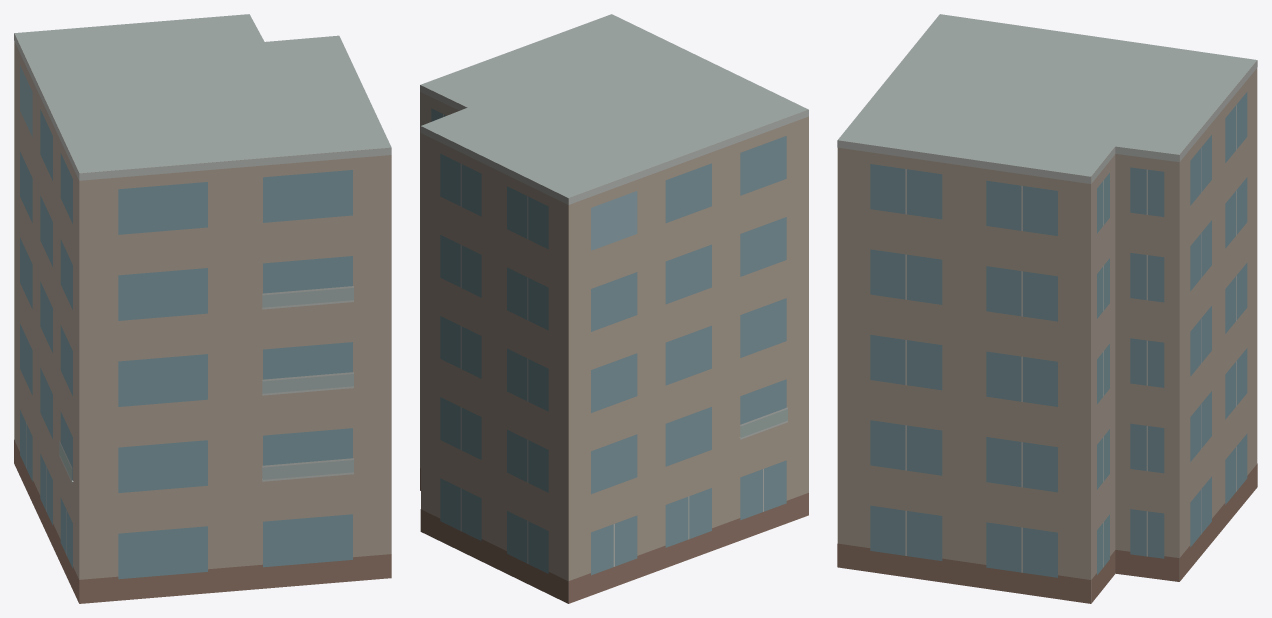
The model's file is survey-upis-32981299.glb.
3 renders of one model, left to right at view 1: azimuth 30°, elevation 25°; view 2: azimuth 150°, elevation 25°; view 3: azimuth 270°, elevation 25°, orthographic. The views are drawn at different scales.
Visible parts, largest first — view 1: survey-upis-32981299.tmp; view 2: survey-upis-32981299.tmp; view 3: survey-upis-32981299.tmp.
Boxes of the visible parts, left/top/right/bottom form: survey-upis-32981299.tmp: left=14, top=14, right=391, bottom=603; survey-upis-32981299.tmp: left=420, top=14, right=808, bottom=603; survey-upis-32981299.tmp: left=837, top=14, right=1257, bottom=603.
Bounding box in the file's own units: 11.7 × 14.3 × 12.76.
